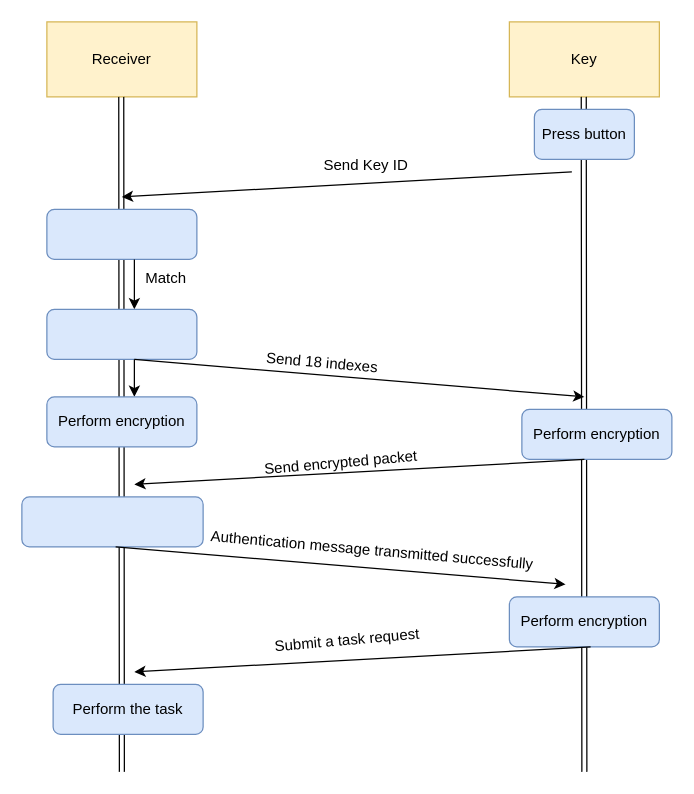
This 694x794 diagram has some shape labels left out. The shapes that lost their labels are listed below. From the top down, each one's centre as x and y in pixels, then its label:
At (x=121, y=233): "Check Key ID to see if it matches".
At (x=121, y=333): "Select 18 indexes".
At (x=112, y=521): "Compare received and self-encoded packets".
